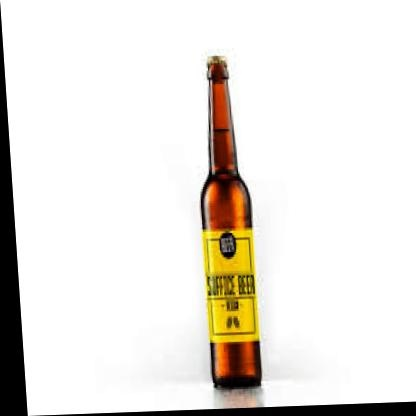trash: (201, 56, 260, 387)
